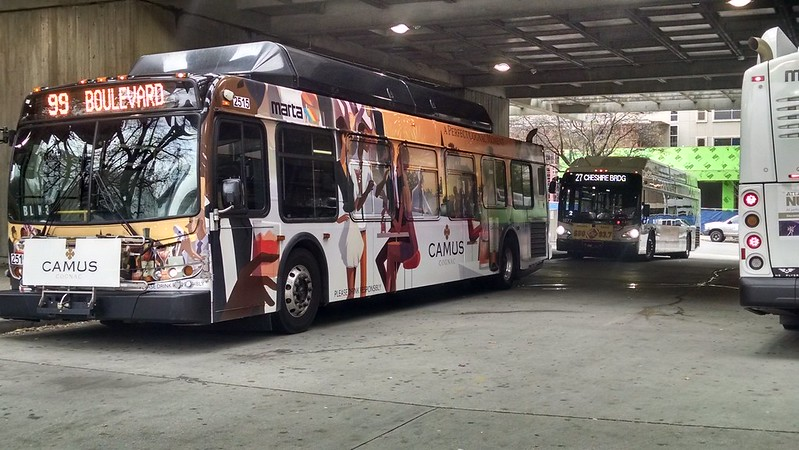bus: (10, 23, 554, 318), (741, 19, 799, 376), (560, 146, 705, 261)
car: (705, 202, 740, 245)
